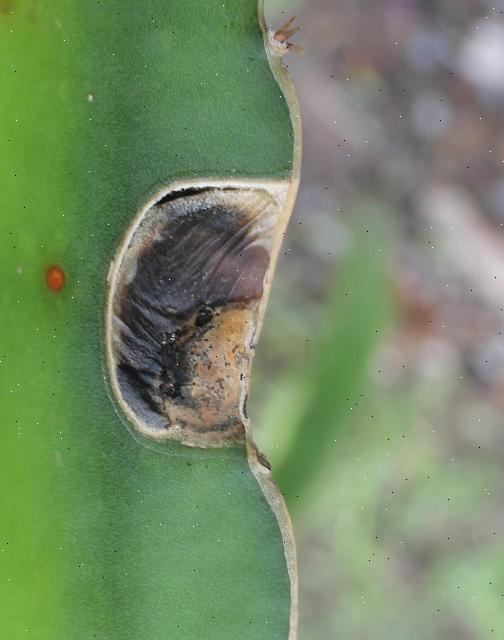stemcanker: (94, 170, 294, 469)
